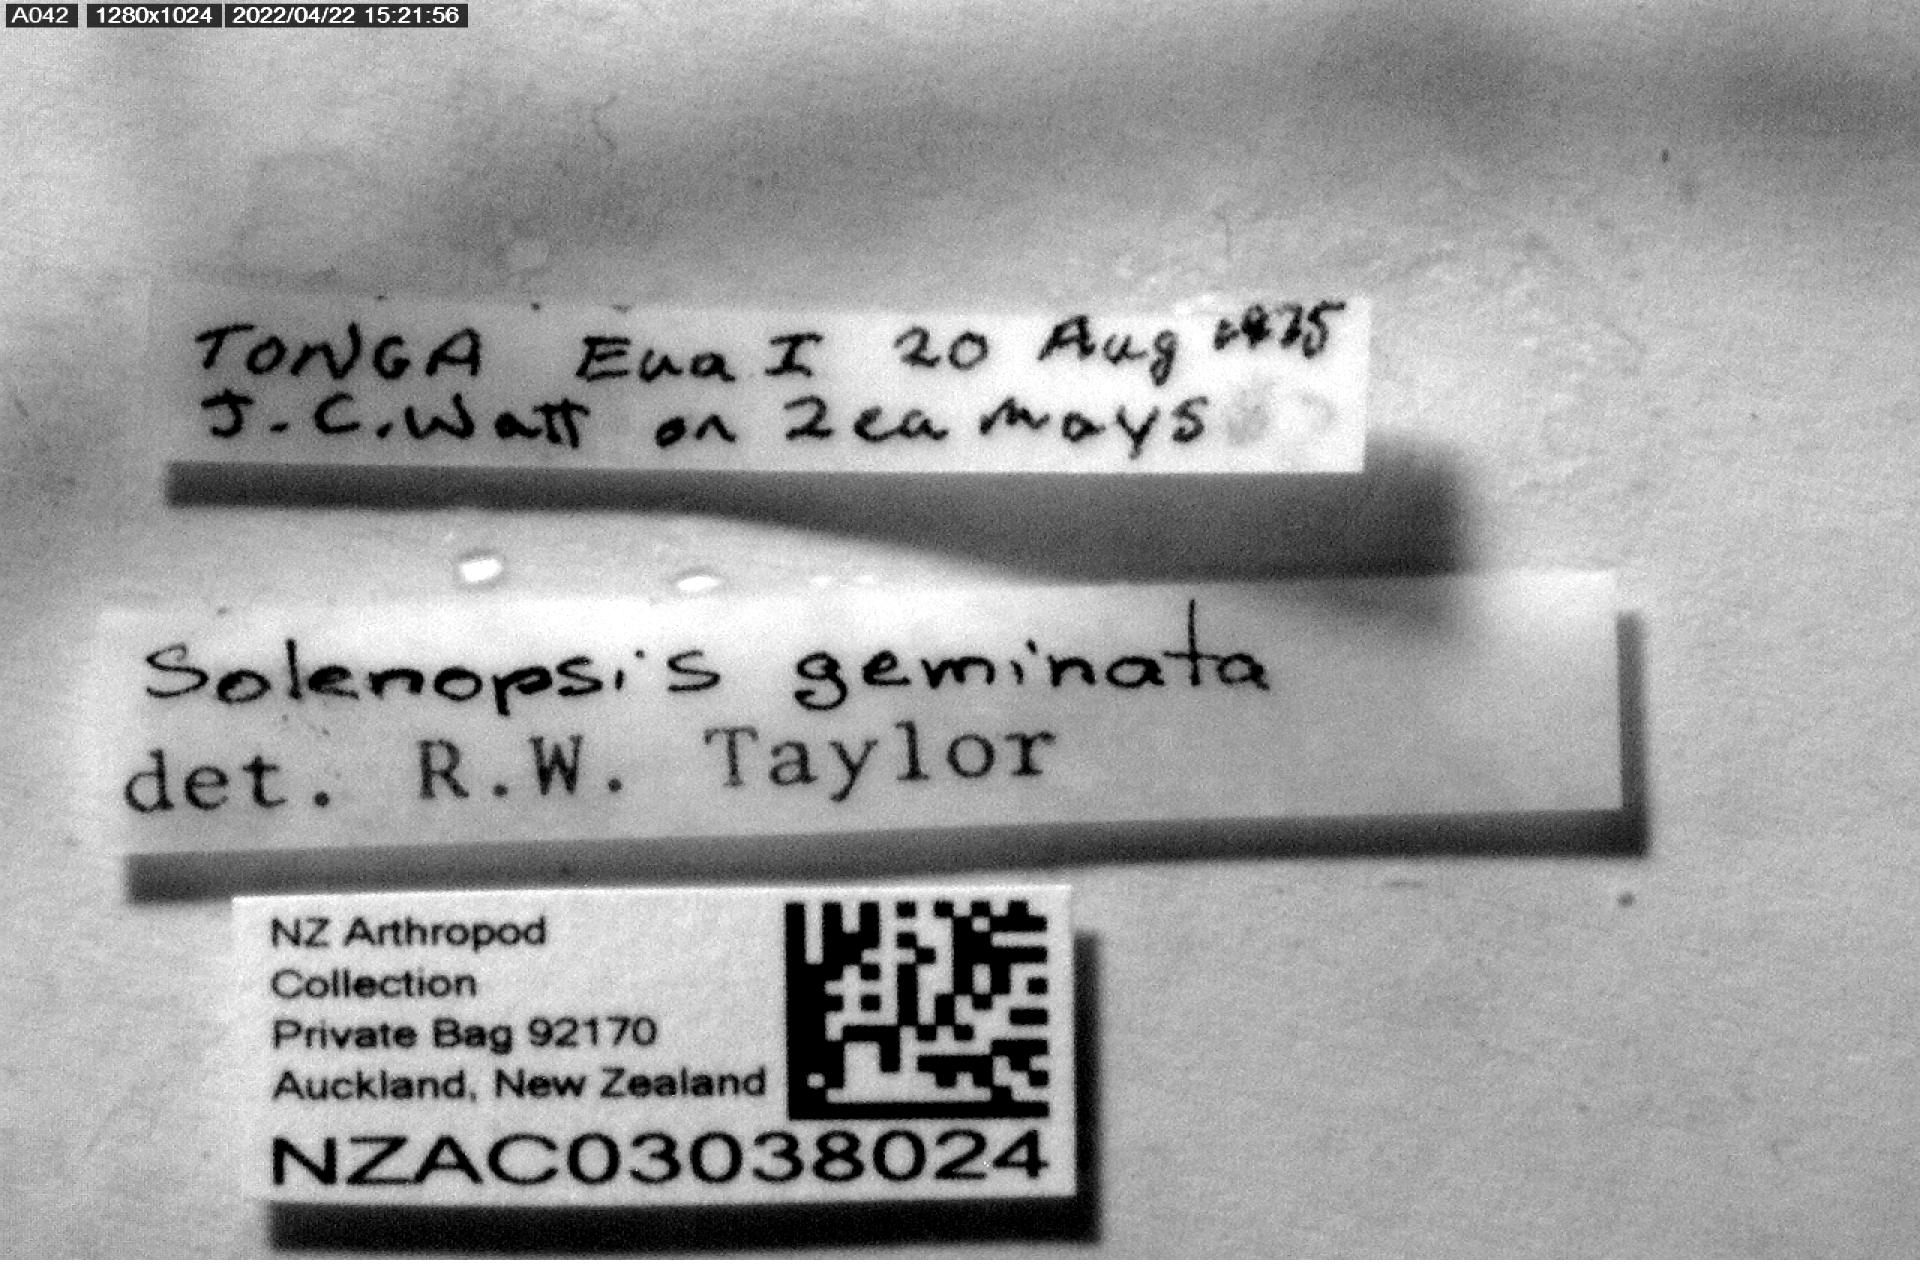hand_label: (150, 281, 1369, 474)
mixed_label: (101, 574, 1624, 860)
typed_label: (233, 887, 1076, 1206)
